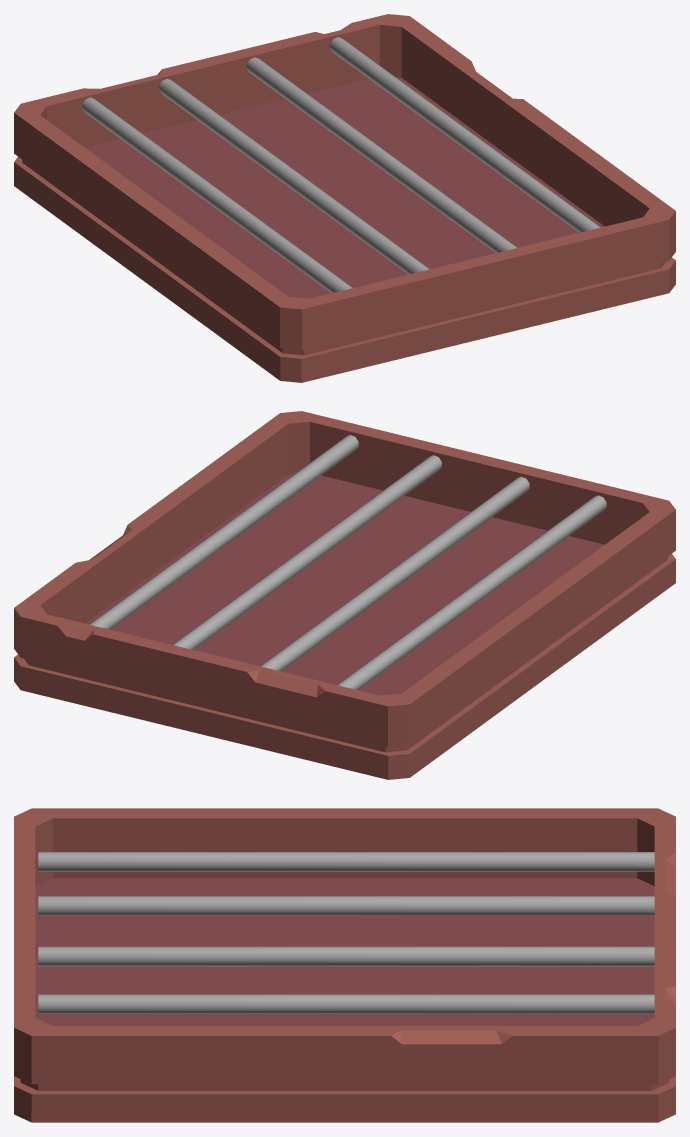
Rendered from Wash Area.fbx.
3 views of the same model, one above another, from view 1: azimuth 30°, elevation 25°; view 2: azimuth 150°, elevation 25°; view 3: azimuth 270°, elevation 25° (orthographic). The views are drawn at different scales.
Parts seen in each view (by area): view 1: Cube_058Shape; view 2: Cube_058Shape; view 3: Cube_058Shape.
Part boxes in pixels (x1,y1,x2,y2): Cube_058Shape: [14, 14, 675, 382]; Cube_058Shape: [14, 411, 675, 779]; Cube_058Shape: [14, 808, 675, 1122].
Bounding box in the file's own units: 15.15 × 2.69 × 18.64.
2 materials, 1 textured.
